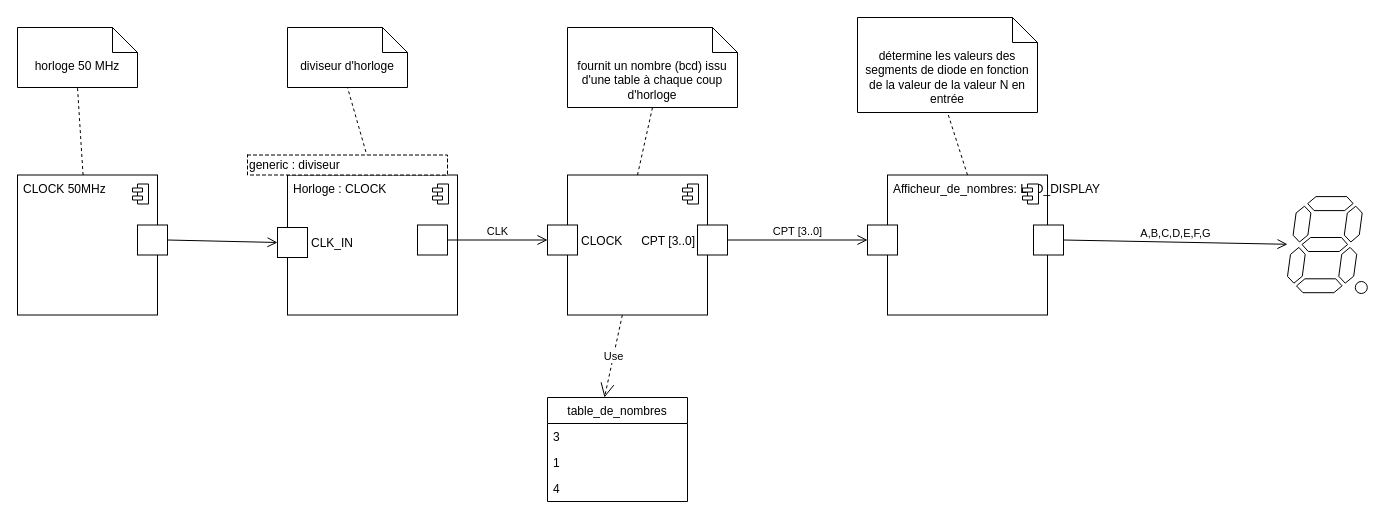
Some shapes in this 1385 by 522 pixel diagram are drawn without their labels. Each missing label, with the centre of its shape:
"50MHz" belongs at point (152, 239).
"A, B, C, D, E, F, G" belongs at point (1048, 239).
"CLK_OUT" belongs at point (432, 239).
"Generateur_de_nombres: NOMBRE_A_AFFICHER" belongs at point (637, 244).
"N [3..0]" belongs at point (882, 239).
